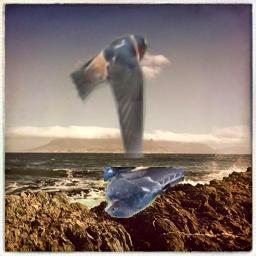Swallow: (69, 28, 150, 158), (104, 167, 184, 218)
